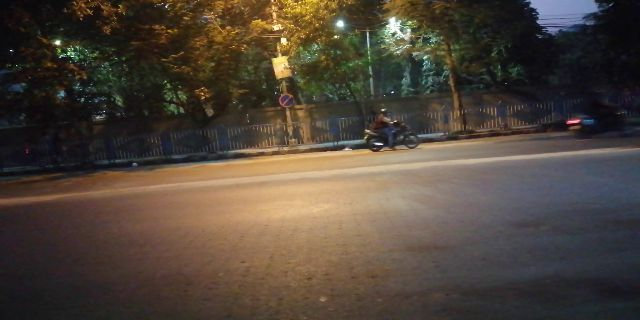Motorbike: (357, 109, 422, 151)
